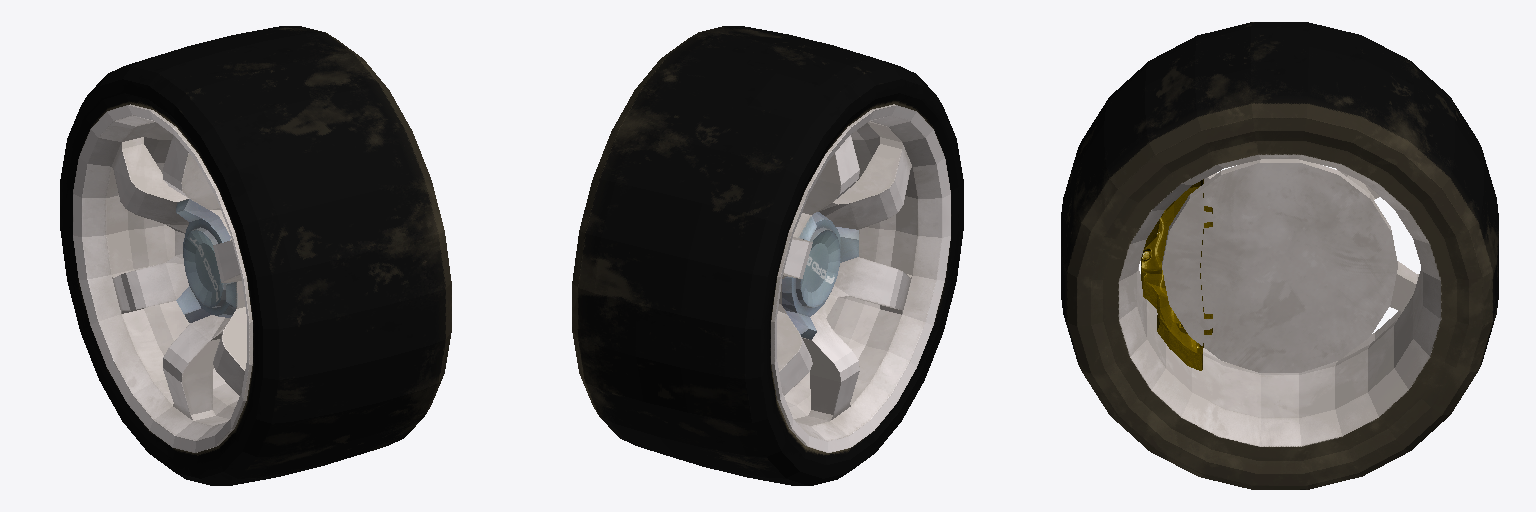
The picture shows the model from 3 angles: view 1: azimuth 30°, elevation 25°; view 2: azimuth 150°, elevation 25°; view 3: azimuth 270°, elevation 25°; orthographic projection.
Visible parts, largest first — view 1: Wheel_RR; view 2: Wheel_RR; view 3: Wheel_RR.
Part boxes in pixels (x1,y1,x2,y2): Wheel_RR: (60,26,451,485); Wheel_RR: (572,26,963,485); Wheel_RR: (1061,22,1498,489).
Size of the model in its own units: 8.25 by 16.45 by 16.45.
Materials: 2 (2 with a texture image).